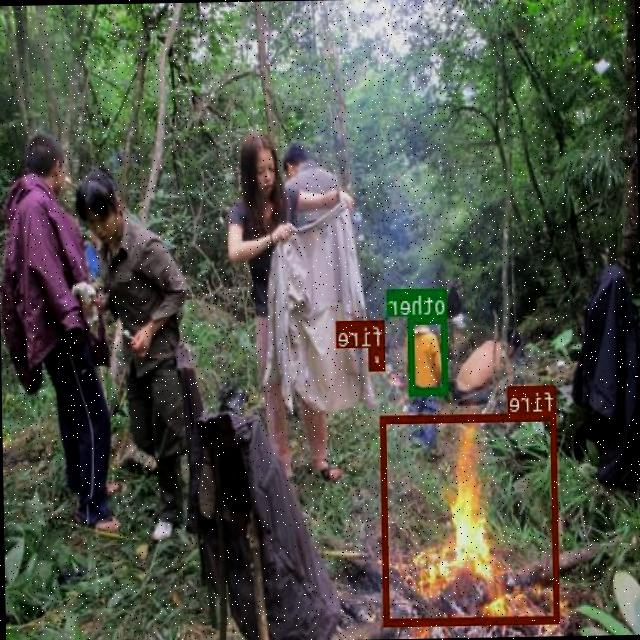fire: (380, 411, 560, 624), (370, 346, 384, 369)
